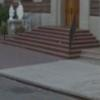stairs: (3, 26, 100, 60)
